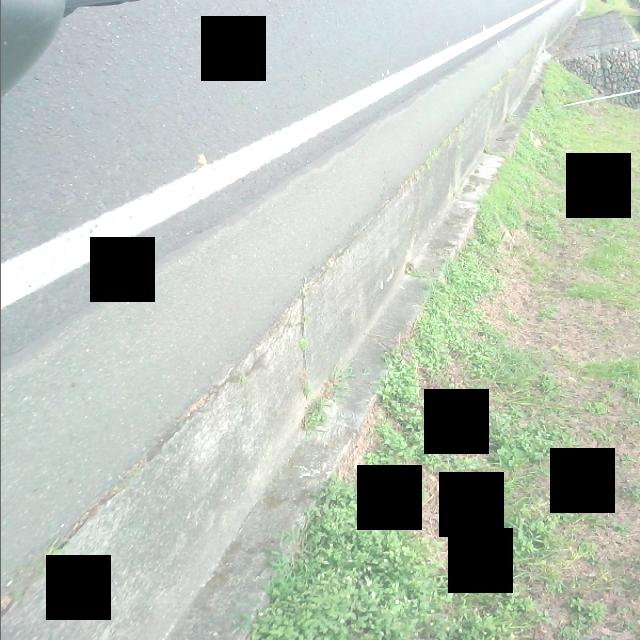DITCH: (2, 2, 634, 638), (2, 2, 586, 637), (2, 59, 583, 638)
